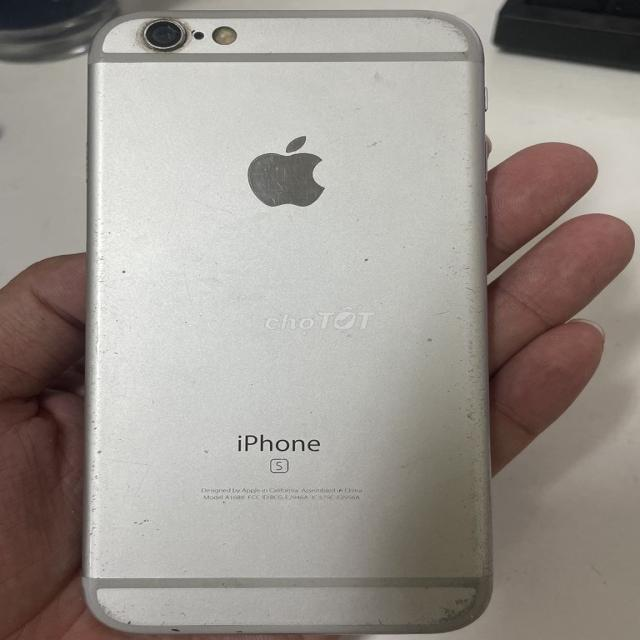gen_6: (82, 10, 492, 635)
scratch: (460, 115, 495, 581), (229, 116, 355, 226), (323, 4, 490, 54), (406, 563, 480, 633), (125, 7, 210, 62), (99, 597, 201, 633)
